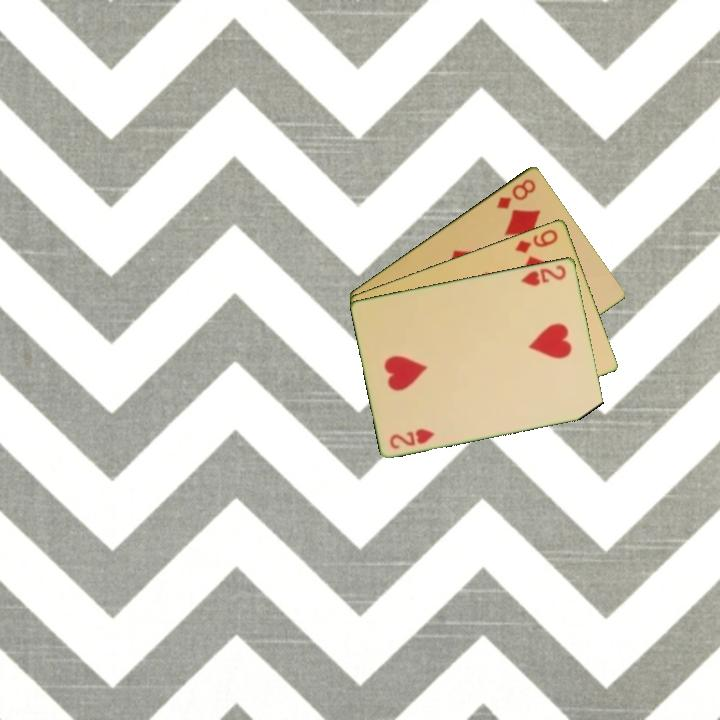2h: (518, 261, 569, 288), (386, 425, 437, 452)
8d: (493, 175, 539, 212)
9d: (512, 225, 561, 256)
